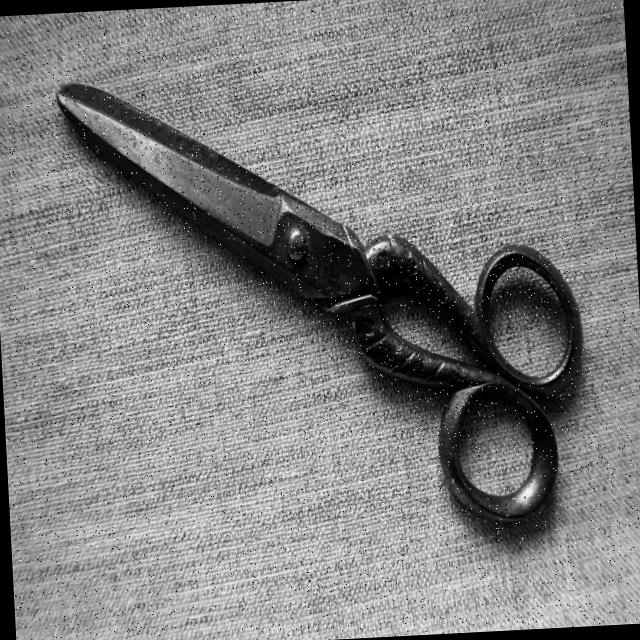scissors: (52, 43, 596, 561)
